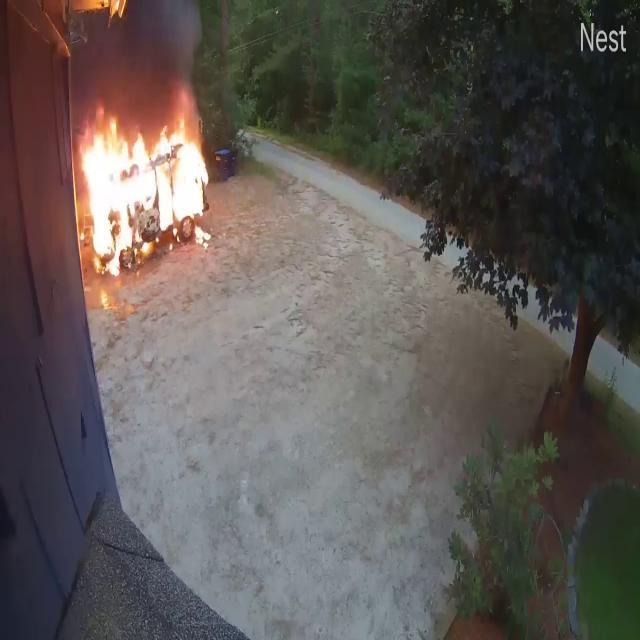Fire: (76, 104, 215, 267)
